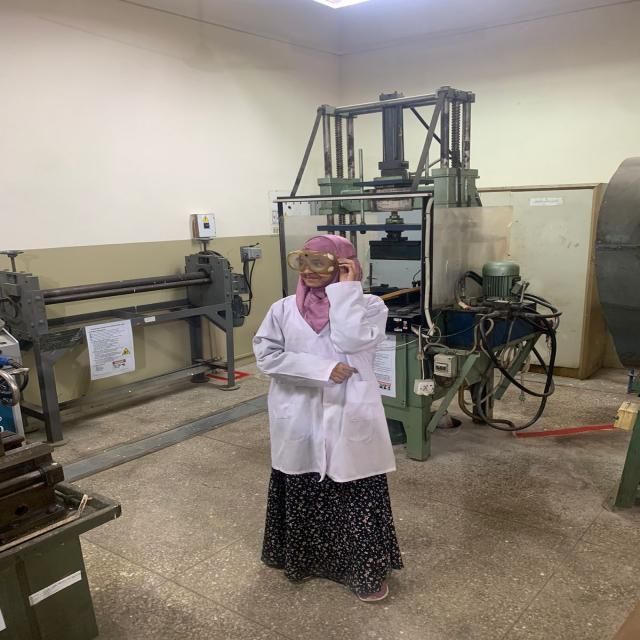googles: (287, 250, 336, 272)
labcoat: (249, 280, 398, 484)
